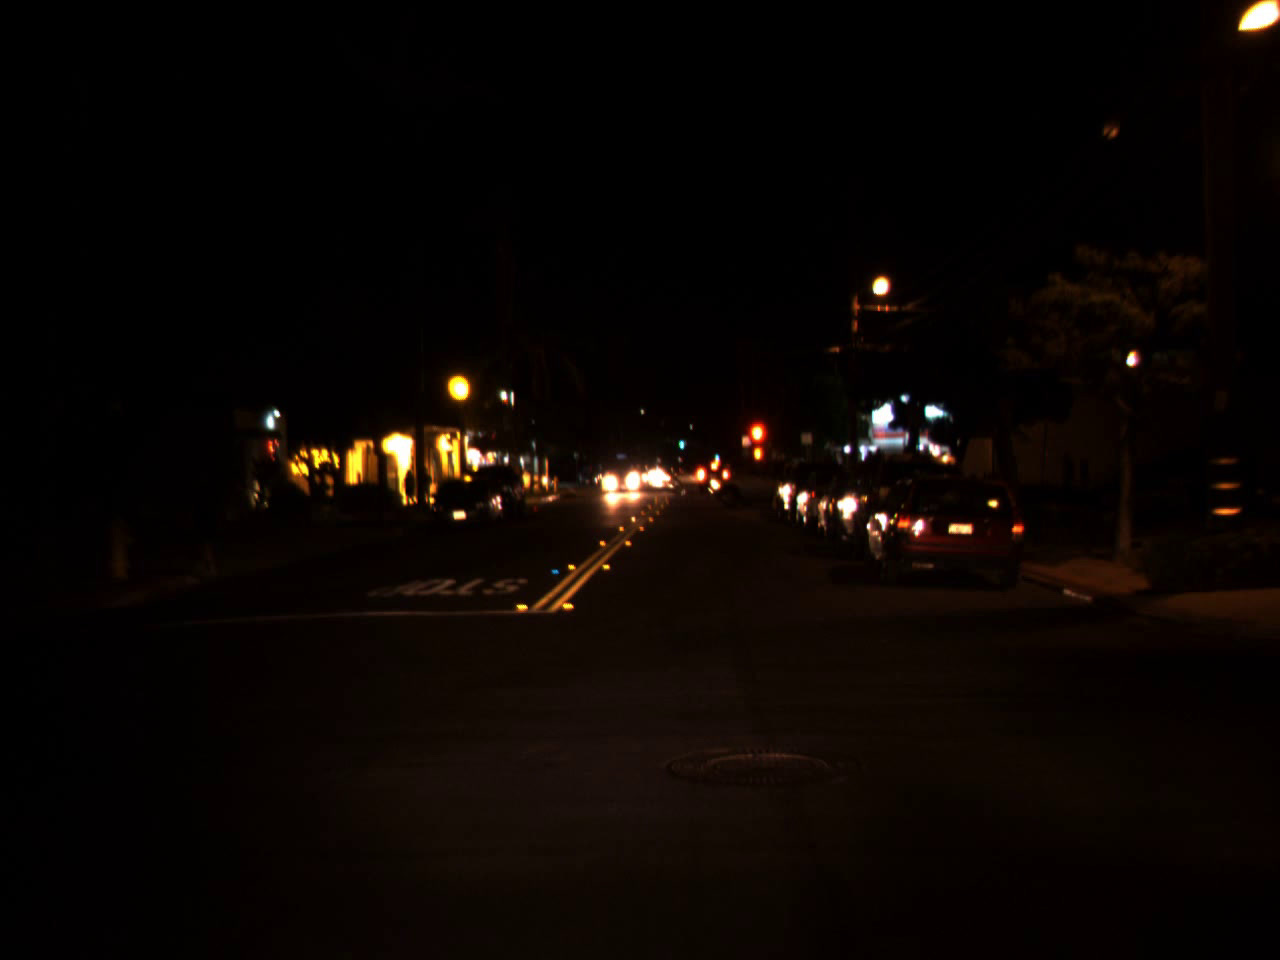go: (676, 432, 685, 450), (712, 447, 721, 462)
stop: (741, 419, 771, 470)
